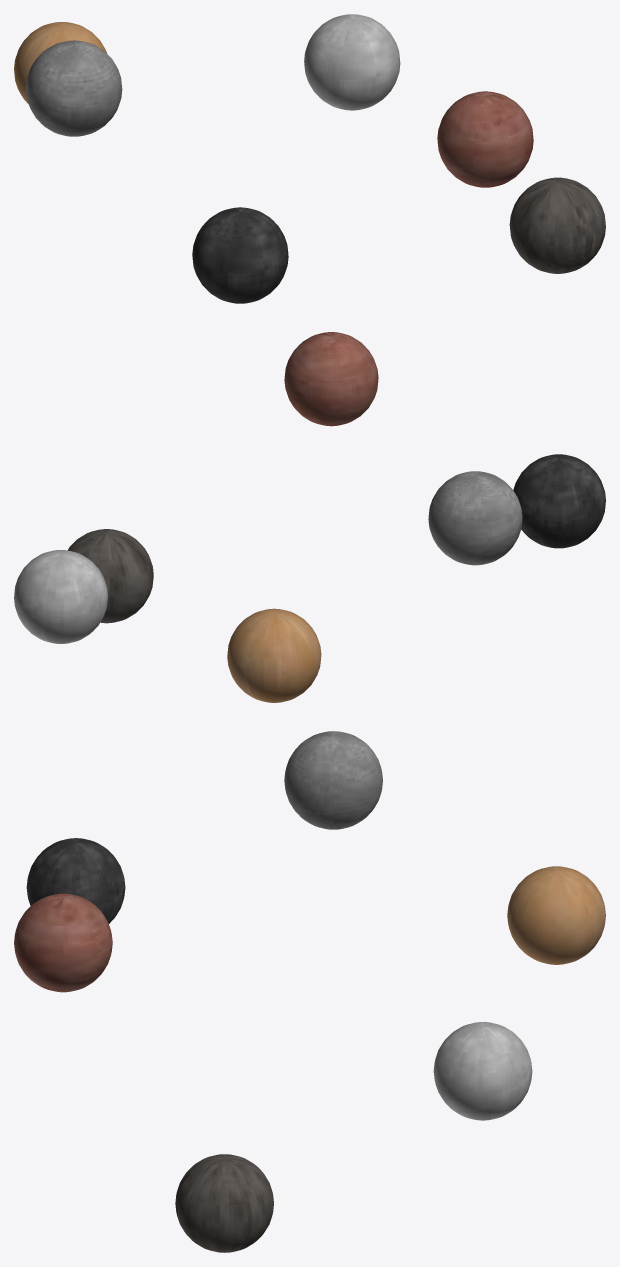
Rendered from progressive.glb.
3 views of the same model, one above another, from view 1: azimuth 30°, elevation 25°; view 2: azimuth 150°, elevation 25°; view 3: azimuth 270°, elevation 25° (orthographic). The views are drawn at different scales.
Parts seen in each view (by area): view 1: Sphere.001, Sphere.002, Sphere, Sphere.005, Sphere.004, Sphere.003; view 2: Sphere.001, Sphere.003, Sphere.005, Sphere.004, Sphere.002, Sphere; view 3: Sphere.001, Sphere, Sphere.004, Sphere.003, Sphere.005, Sphere.002.
Part boxes in pixels (x1,y1,x2,y2): Sphere.001: (437,91,533,187); Sphere.002: (192,207,288,303); Sphere: (509,177,605,273); Sphere.005: (26,40,122,136); Sphere.004: (304,14,400,110); Sphere.003: (14,22,106,103); Sphere.001: (284,332,378,426); Sphere.003: (227,608,321,702); Sphere.005: (428,471,522,565); Sphere.004: (14,550,107,643); Sphere.002: (513,454,605,548); Sphere: (68,529,153,623); Sphere.001: (14,893,112,992); Sphere: (175,1154,273,1252); Sphere.004: (433,1022,532,1120); Sphere.003: (507,866,605,964); Sphere.005: (284,731,382,829); Sphere.002: (26,838,125,923).
Size of the model in its own units: 12.3 by 6.65 by 11.99.
6 materials, 6 textured.
